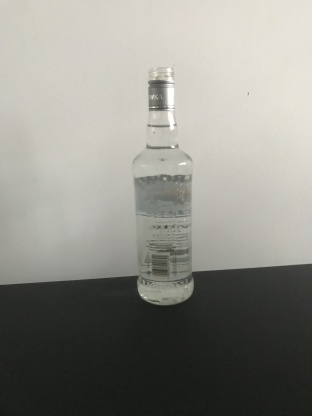nakretka: (146, 65, 176, 112)
